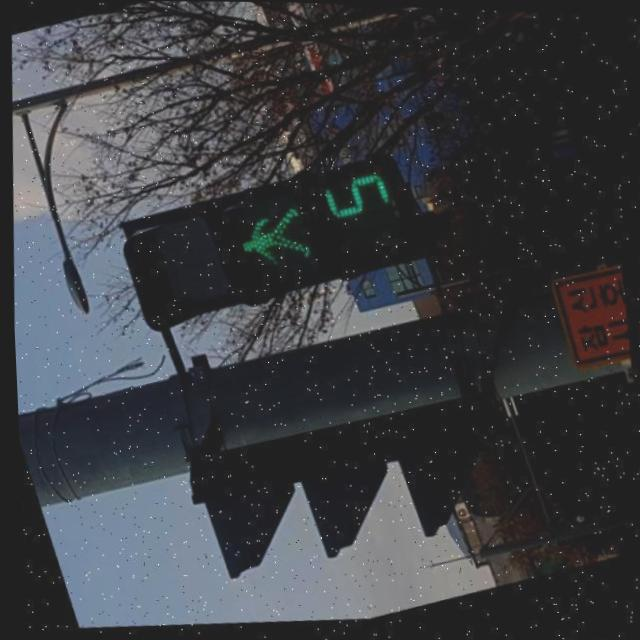green_light: (228, 164, 421, 294)
